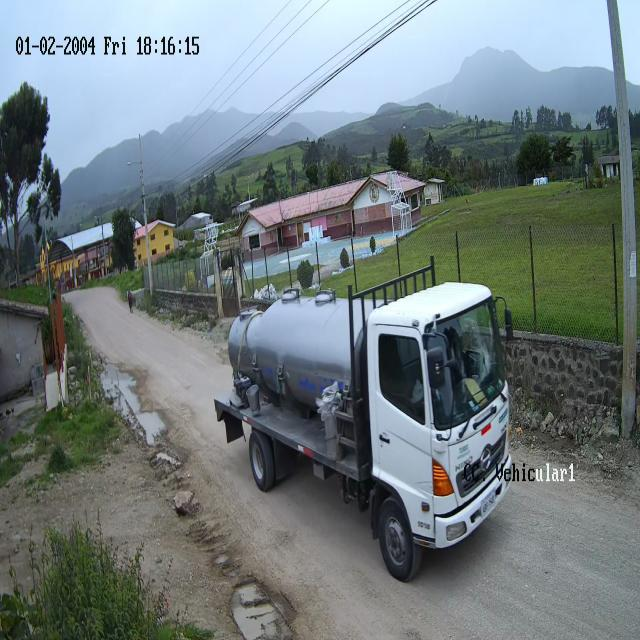TRUCK: (215, 282, 509, 582)
